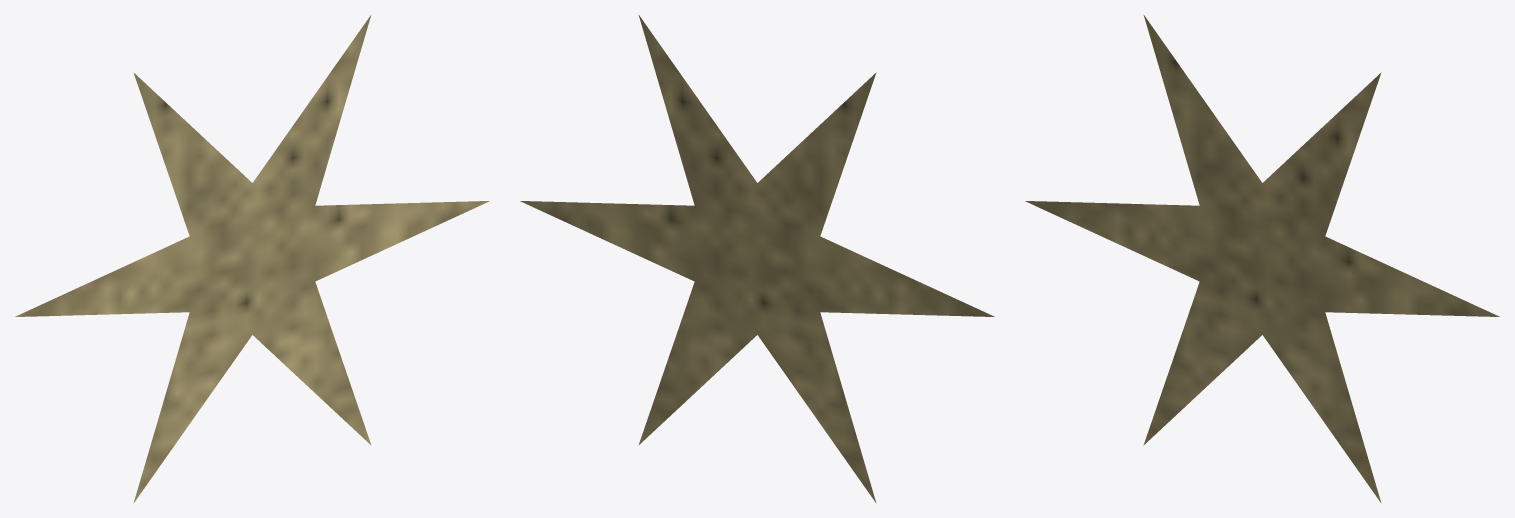
The model's file is fx_flash.glb.
The picture shows the model from 3 angles, left to right: view 1: azimuth 30°, elevation 25°; view 2: azimuth 150°, elevation 25°; view 3: azimuth 330°, elevation 25°; orthographic projection.
Visible parts, largest first — view 1: starburst; view 2: starburst; view 3: starburst.
Boxes of the visible parts, bbox=[...] form: starburst: bbox=[15, 15, 489, 502]; starburst: bbox=[520, 15, 994, 502]; starburst: bbox=[1025, 15, 1499, 502].
Size of the model in its own units: 0.46 by 0.3984 by 0.
Materials: 1 (1 with a texture image).
